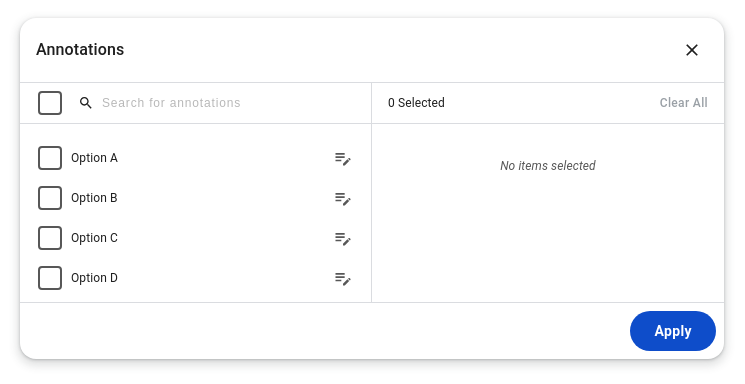
Scenario: FilterAnnotationsMultiSelect › selection functionality (local state) › should update local state when toggling options
# Click Option A to select it locally
What coordinates should you click on to do the following:
click the text "Option A"
I would click on:
 (94, 158)
Its box is 71,151 -> 118,165.
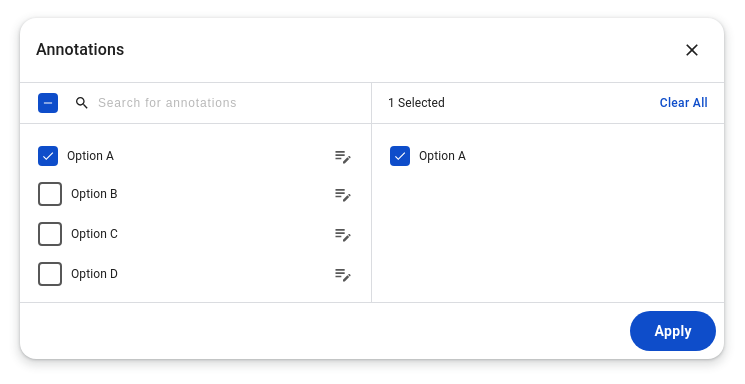
Now the text "1 Selected" is shown, box 388,95 -> 445,111
